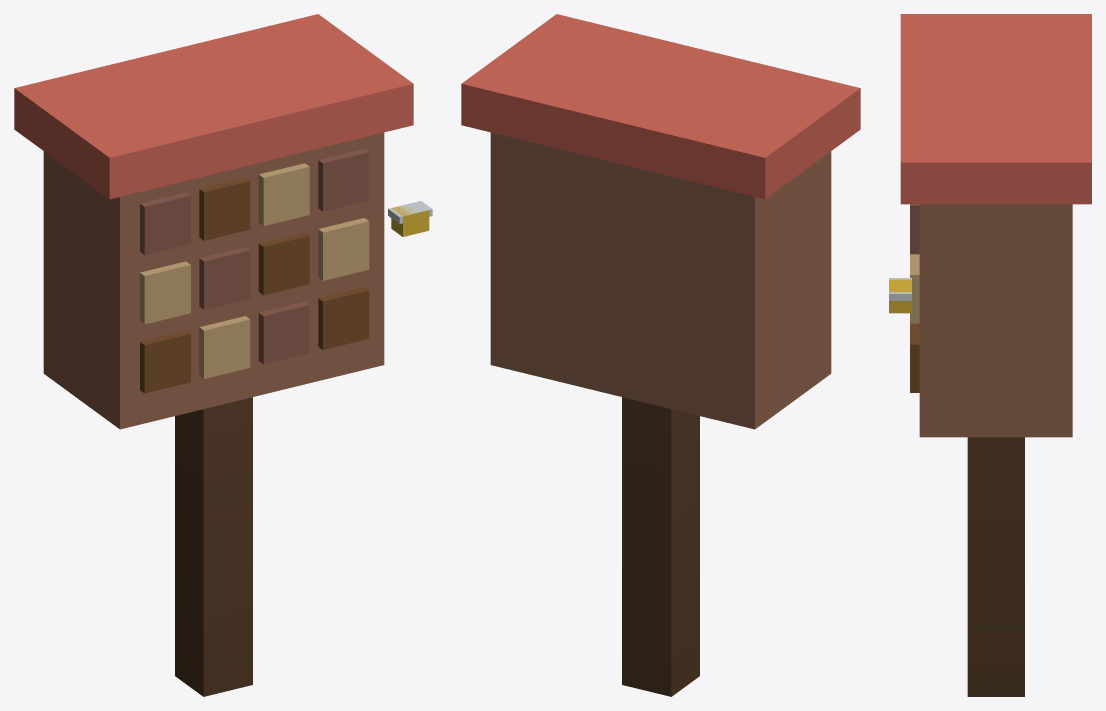
File: vignette-bee-hotel.glb
3 renders of one model, left to right at view 1: azimuth 30°, elevation 25°; view 2: azimuth 150°, elevation 25°; view 3: azimuth 270°, elevation 25°, orthographic.
Visible parts, largest first — view 1: vignette-bee-hotel_body; view 2: vignette-bee-hotel_body; view 3: vignette-bee-hotel_body.
Part boxes in pixels (x1=…): vignette-bee-hotel_body: x1=14, y1=14, x2=432, y2=696; vignette-bee-hotel_body: x1=461, y1=14, x2=860, y2=696; vignette-bee-hotel_body: x1=889, y1=14, x2=1091, y2=696.
Bounding box in the file's own units: 0.96 × 1.72 × 0.53.
